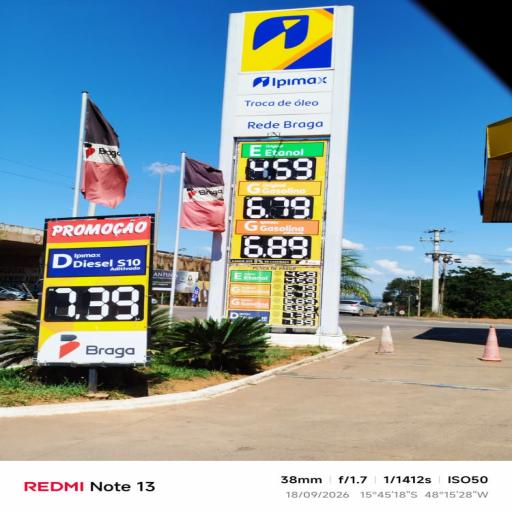ETANOL: (247, 143, 313, 156), (231, 270, 271, 282)
GASOLINA AD: (241, 218, 311, 236), (230, 297, 271, 310)
GASOLINA C: (244, 181, 316, 195), (229, 284, 271, 297)
S10: (49, 246, 145, 275)
placa: (227, 139, 328, 312), (37, 242, 147, 361)
preco: (45, 285, 143, 322), (243, 236, 310, 258), (245, 158, 315, 179), (247, 196, 313, 218), (284, 284, 318, 292), (282, 297, 316, 305), (286, 271, 318, 279)
